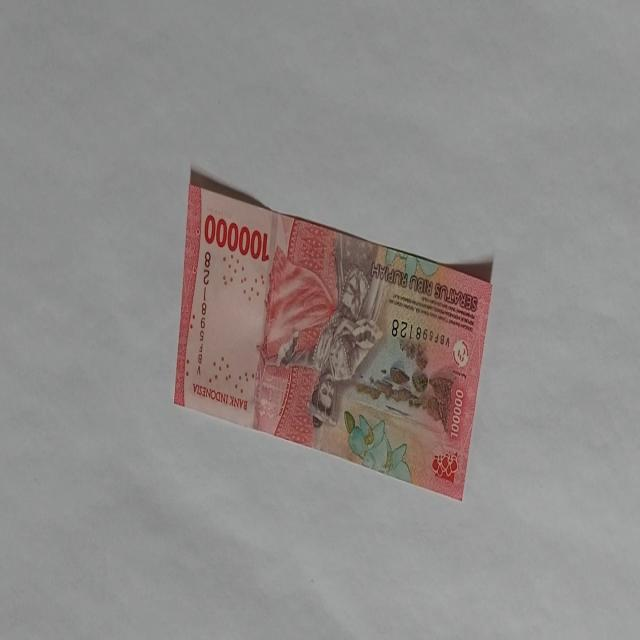seratus ribu rupiah: (173, 176, 493, 502)
